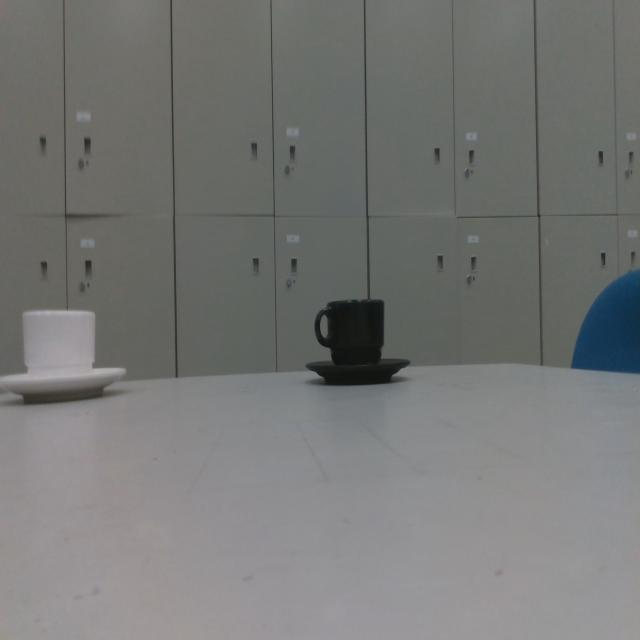black: (304, 291, 411, 385)
white: (0, 306, 128, 406)
